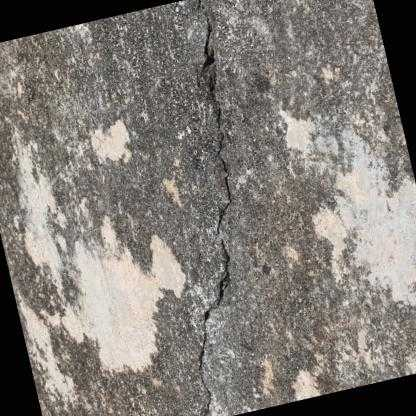crack: (198, 0, 233, 416)
